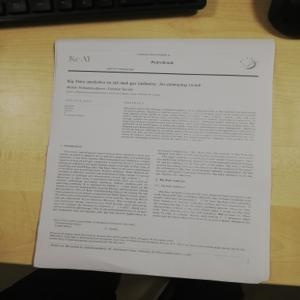text: (49, 148, 154, 216), (120, 105, 258, 143), (48, 228, 247, 253), (154, 187, 255, 224), (154, 148, 255, 180), (64, 74, 202, 87), (146, 57, 177, 66)
